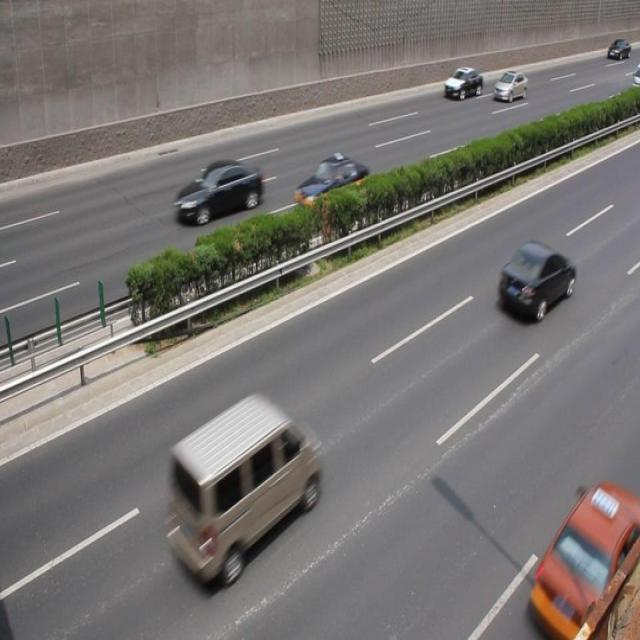car: (497, 240, 573, 324), (172, 159, 262, 224), (294, 152, 372, 218), (443, 68, 482, 100), (493, 69, 525, 102)
truck: (161, 397, 320, 582)
